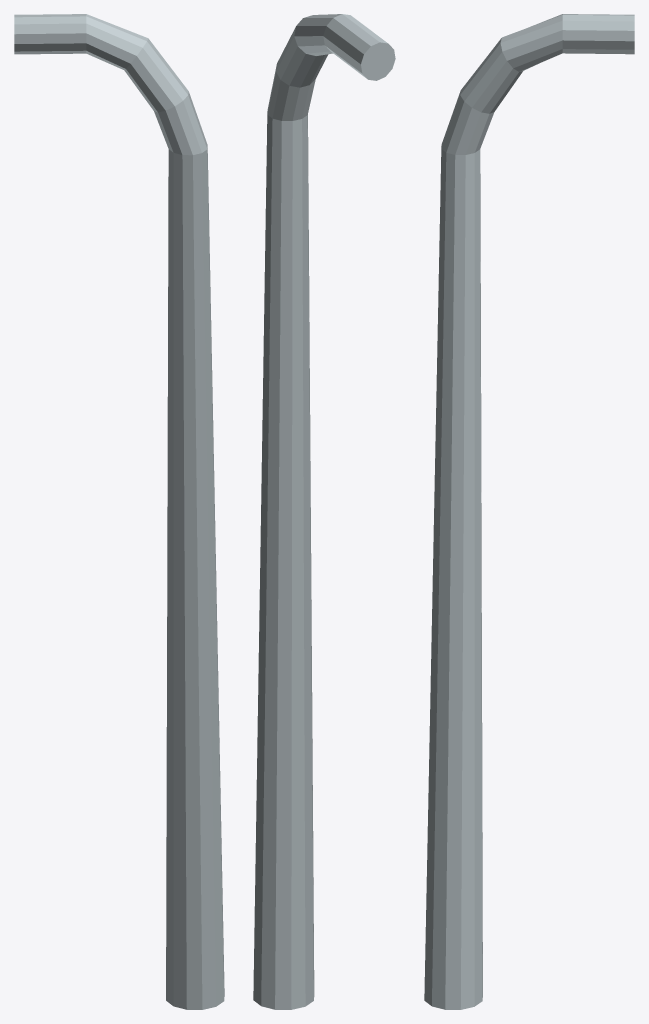
File: LightGreyMetalDecorationSmallLampPost1.fbx
3 renders of one model, left to right at view 1: azimuth 90°, elevation 25°; view 2: azimuth 210°, elevation 25°; view 3: azimuth 270°, elevation 25°, orthographic. The views are drawn at different scales.
Visible parts, largest first — view 1: LightGreyMetalDecorationSmallLampPost1; view 2: LightGreyMetalDecorationSmallLampPost1; view 3: LightGreyMetalDecorationSmallLampPost1.
Boxes of the visible parts, x1=… form: LightGreyMetalDecorationSmallLampPost1: x1=14, y1=14, x2=224, y2=1009; LightGreyMetalDecorationSmallLampPost1: x1=253, y1=14, x2=395, y2=1009; LightGreyMetalDecorationSmallLampPost1: x1=424, y1=14, x2=634, y2=1009.
Bounding box in the file's own units: 43.6 × 808 × 157.
Materials: 1 (1 with a texture image).
